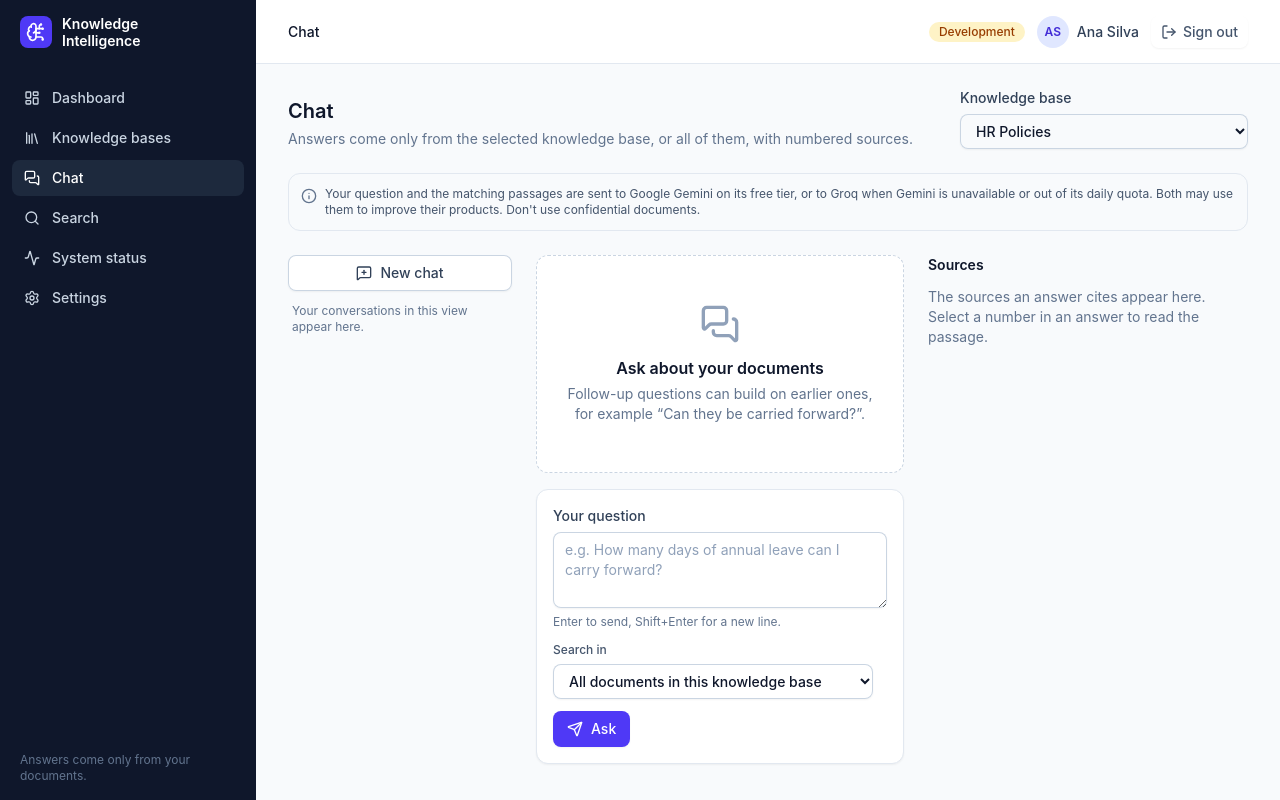
it: chat page › streams the answer, then shows citation chips, the meta line and the sources
The image size is (1280, 800).
In the text box labelled "Your question": (720, 570) [553,532,887,608], type "How much leave can I carry forward?"
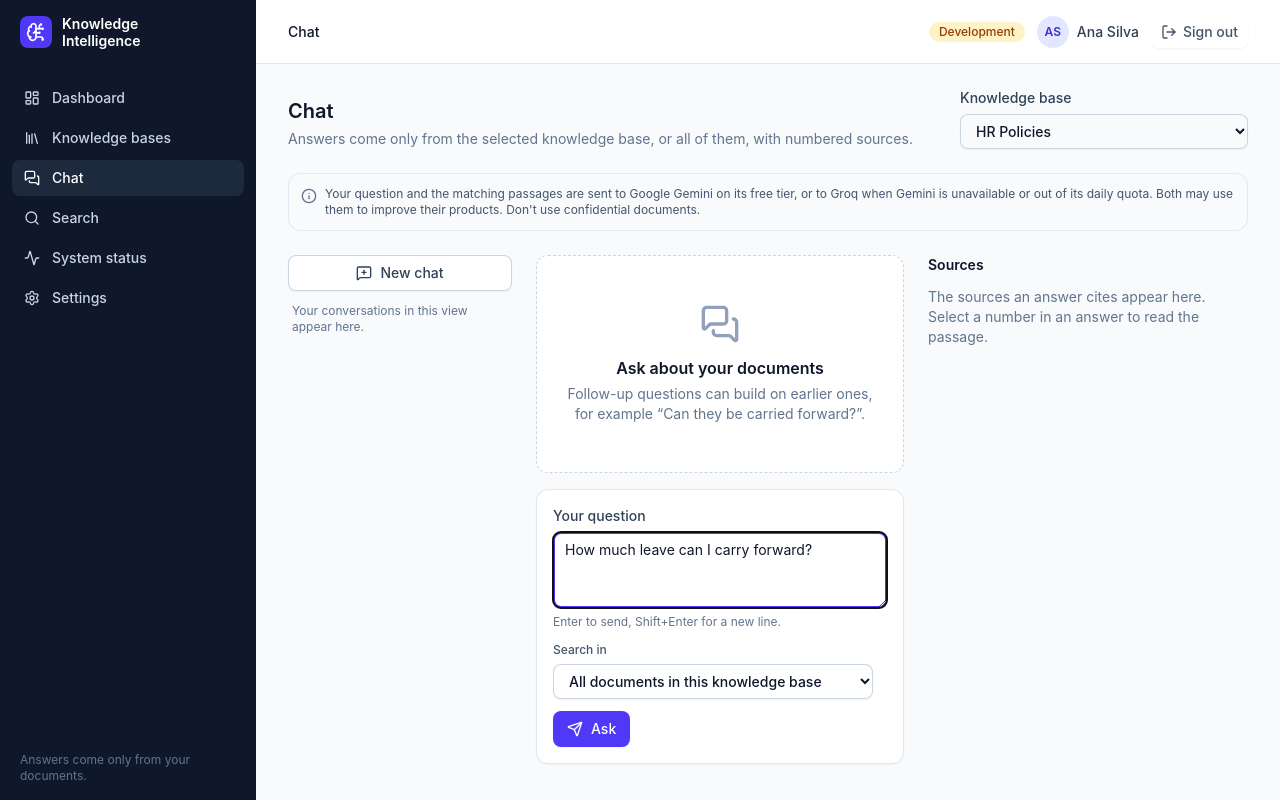
Click the button "Ask": click(592, 729) [553,711,630,747]
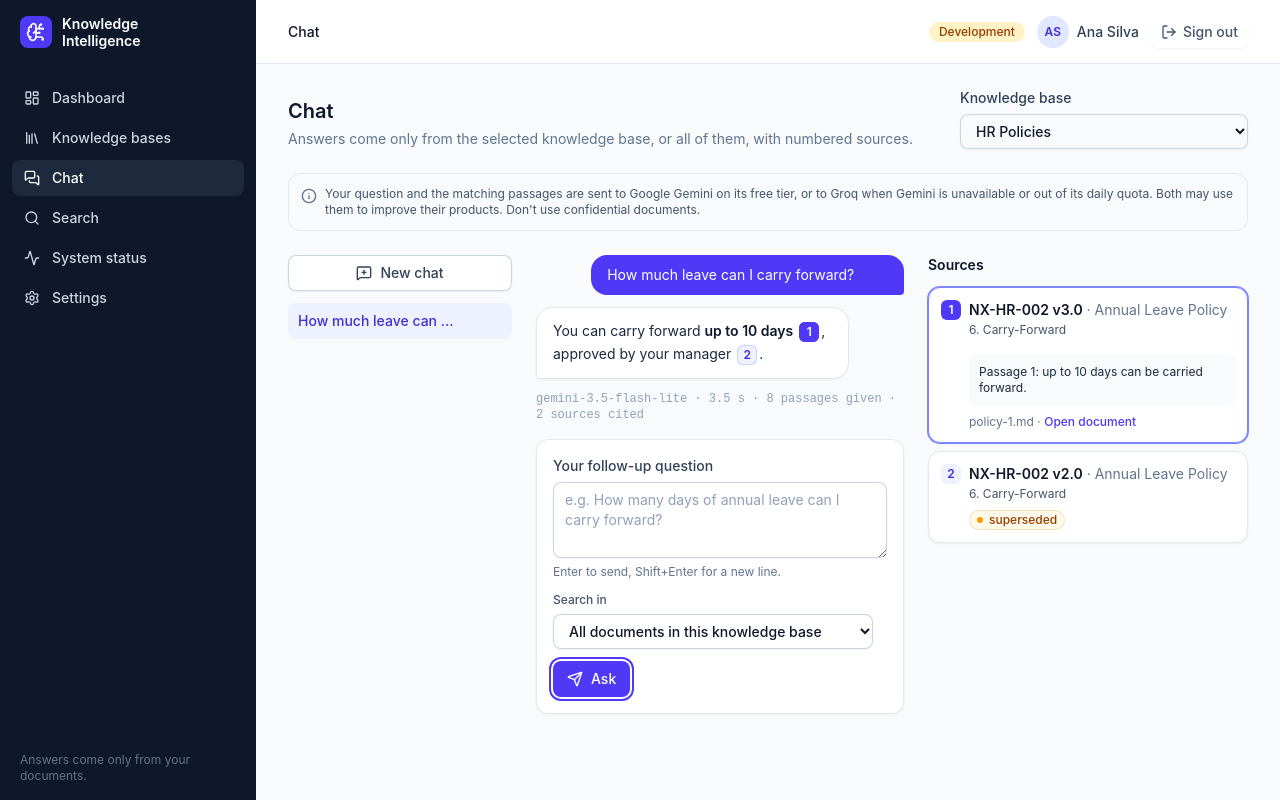
Expected: the button named "Show source 1" is shown, [799,322,819,342]
Expected: the text "gemini-3.5-flash-lite · 3.5 s · 8 passages given · 2 sources cited" is shown, [536,390,904,422]
Expected: the element "Sources" shows "Passage 1: up to 10 days", [979,364,1206,395]
